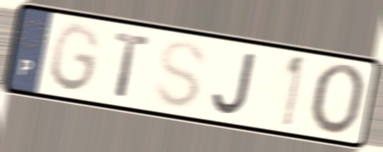1: (281, 53, 309, 133)
G: (48, 20, 103, 96)
J: (209, 49, 258, 117)
O: (308, 61, 370, 140)
S: (152, 38, 209, 112)
T: (112, 29, 154, 101)
